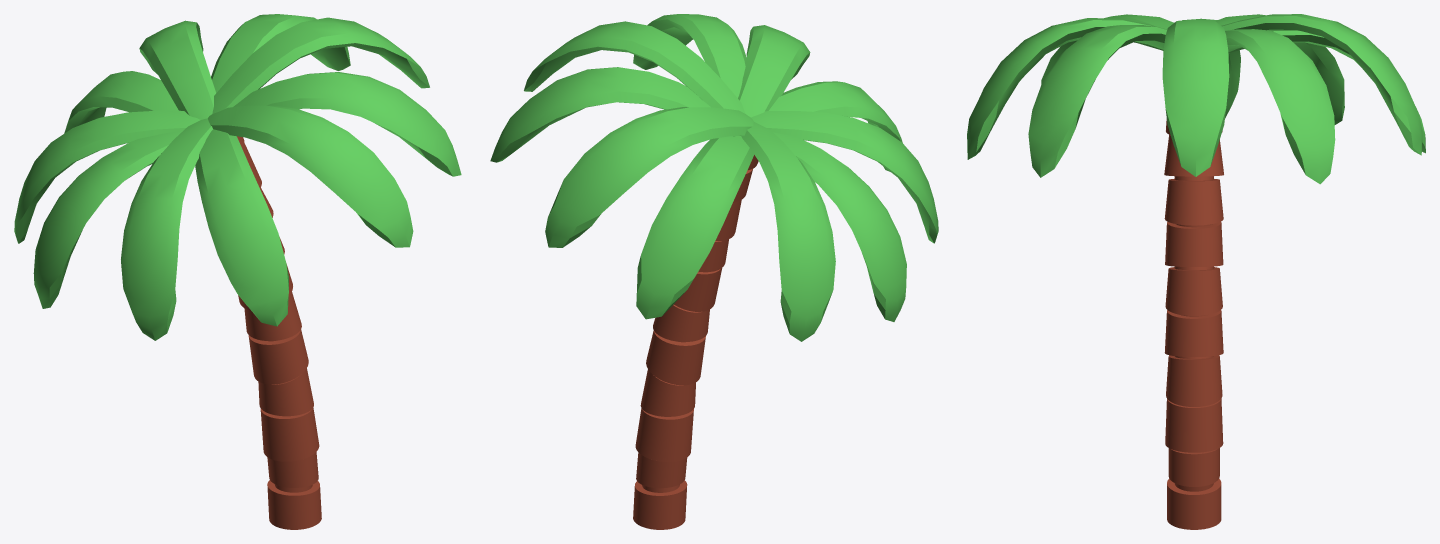
Rendered from coqueiro_novo.fbx.
3 views of the same model, side by side, from view 1: azimuth 30°, elevation 25°; view 2: azimuth 150°, elevation 25°; view 3: azimuth 270°, elevation 25° (orthographic). The views are drawn at different scales.
Visible parts, largest first — view 1: coqueiro; view 2: coqueiro; view 3: coqueiro.
Boxes of the visible parts, x1=… form: coqueiro: x1=14, y1=14, x2=461, y2=529; coqueiro: x1=490, y1=14, x2=938, y2=529; coqueiro: x1=967, y1=14, x2=1425, y2=529.
Size of the model in its own units: 188 by 230 by 190.
